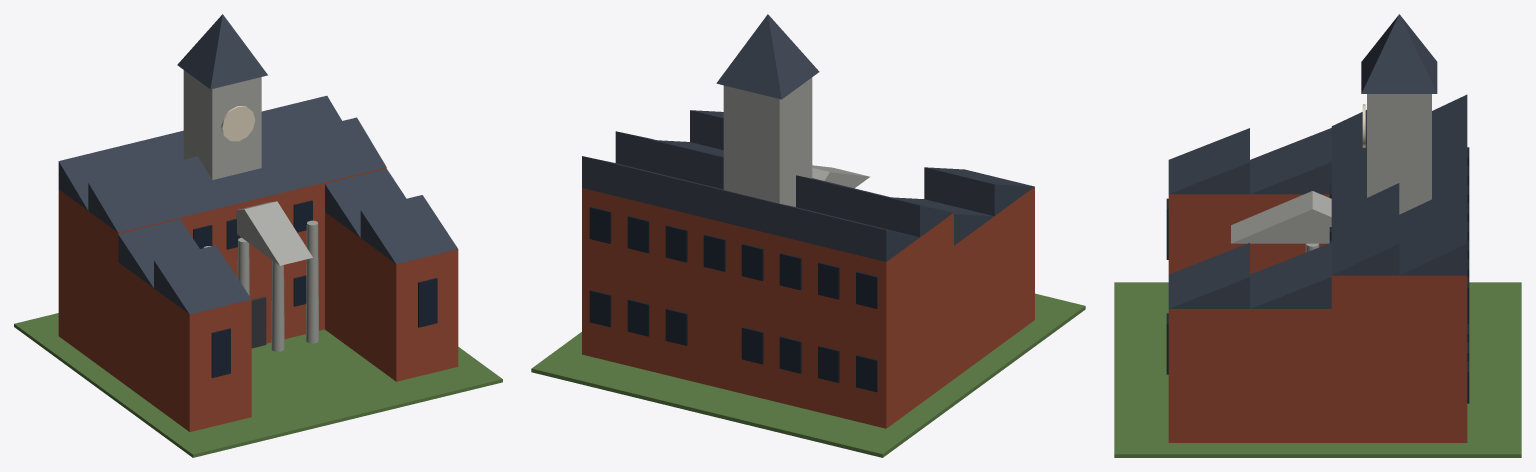
Rendered from bld_special_university_a05.glb.
3 renders of one model, left to right at view 1: azimuth 30°, elevation 25°; view 2: azimuth 150°, elevation 25°; view 3: azimuth 270°, elevation 25°, orthographic. The views are drawn at different scales.
Parts seen in each view (by area): view 1: body; view 2: body; view 3: body.
Boxes of the visible parts, left/top/right/bottom form: body: left=14, top=14, right=502, bottom=457; body: left=531, top=14, right=1085, bottom=457; body: left=1114, top=14, right=1521, bottom=457.
Size of what is drawn, in the model's own units: 15 by 14.55 by 15.
